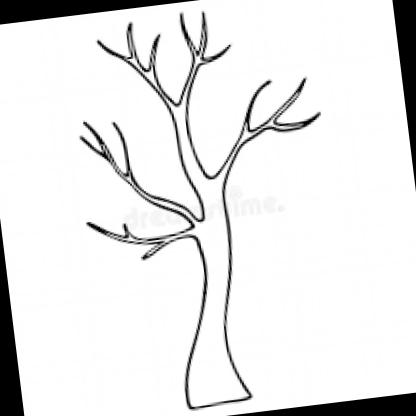trunk_reflex: (169, 247, 249, 396)
